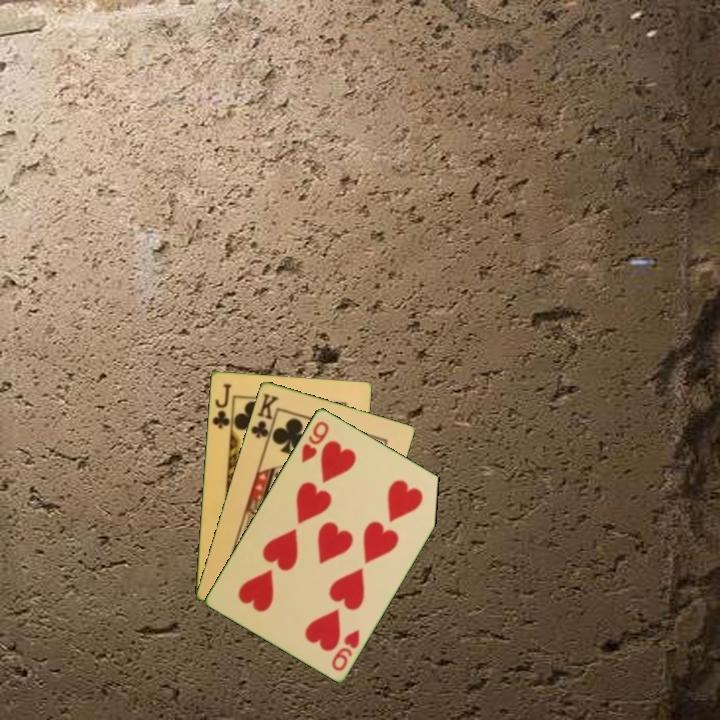9h: (297, 417, 332, 465), (328, 625, 362, 674)
Jc: (209, 380, 234, 431)
Kc: (247, 389, 281, 446)
